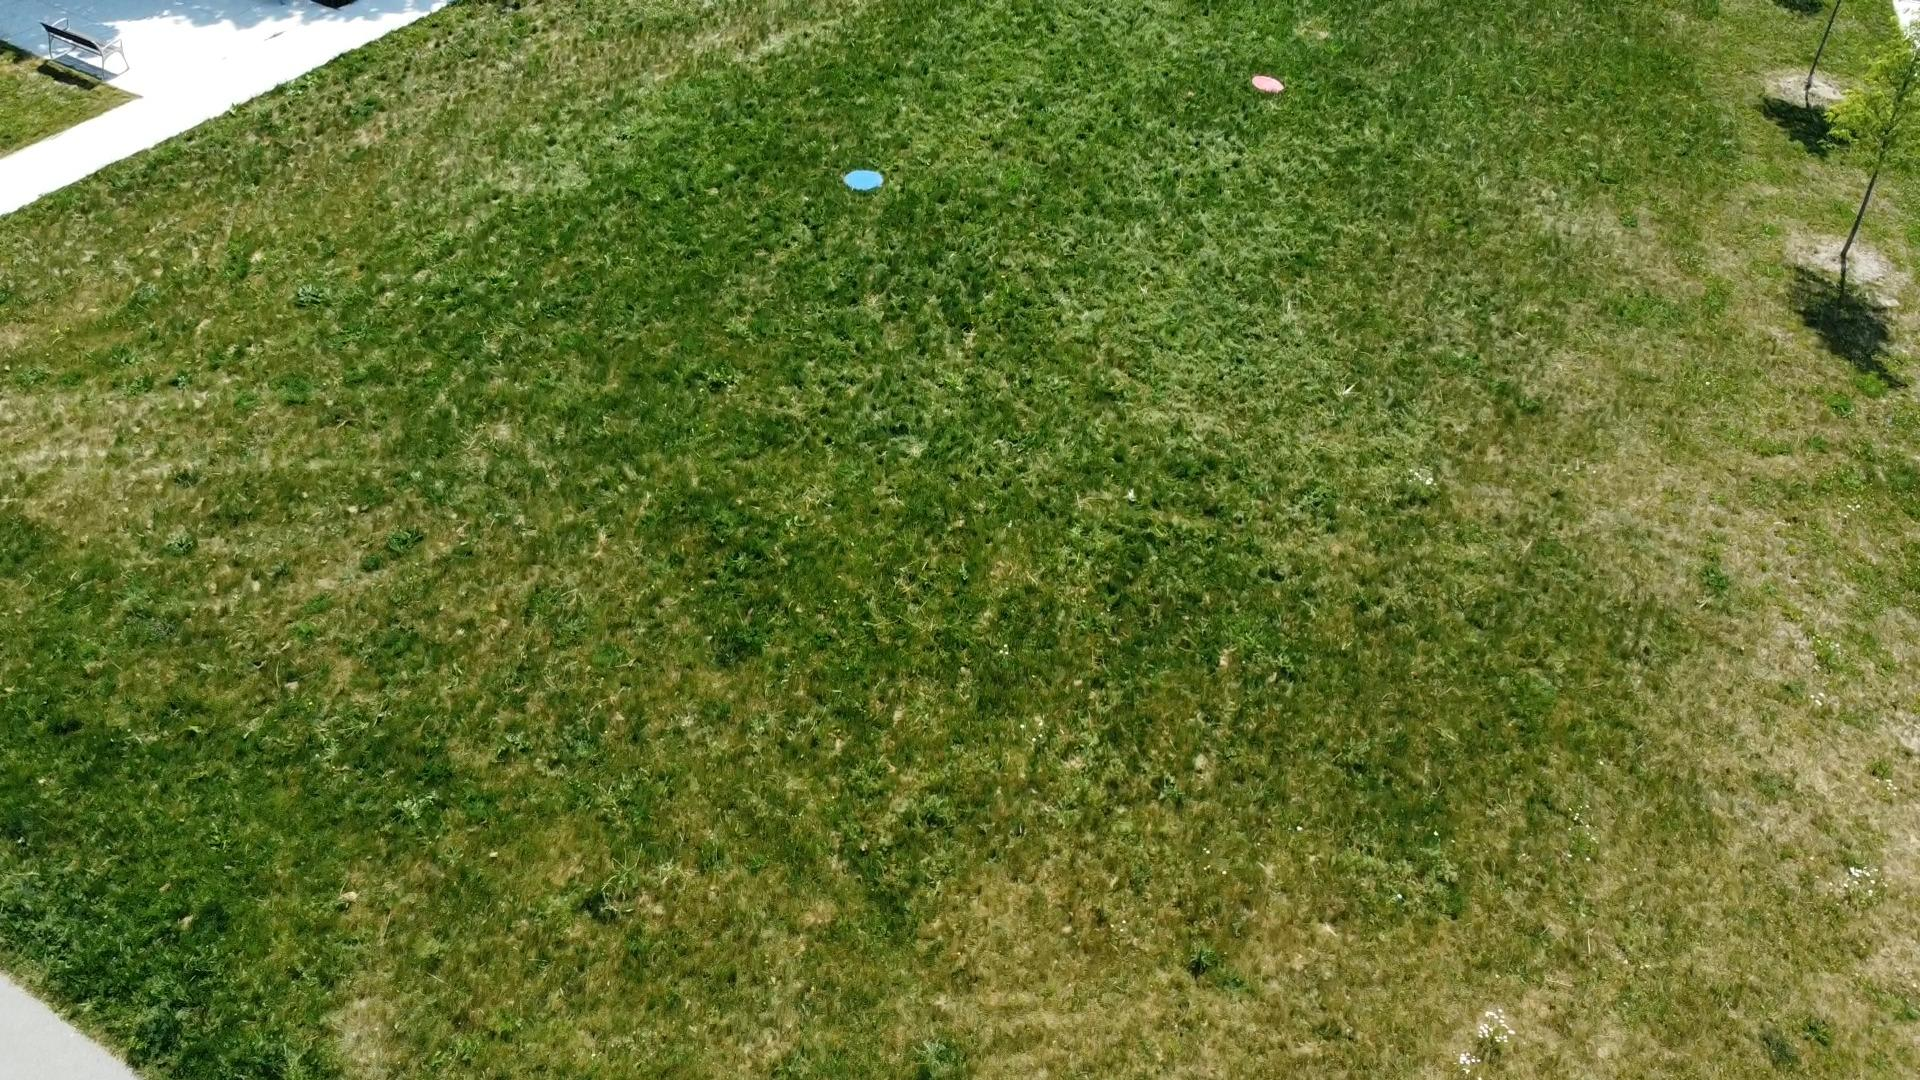Blue: (840, 166, 885, 194)
Red: (1249, 87, 1288, 109)
